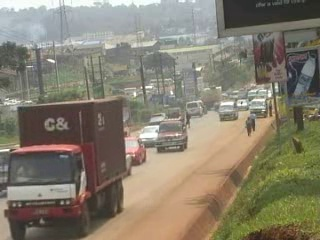Car: (154, 117, 188, 154), (122, 133, 148, 163), (138, 124, 162, 148), (165, 105, 189, 124), (146, 115, 170, 129), (233, 97, 251, 111), (152, 110, 168, 123)
